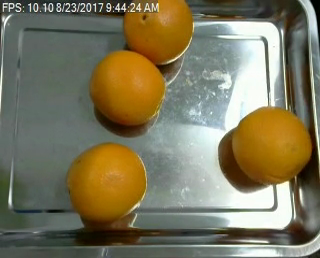Orange: (66, 140, 147, 221), (232, 106, 314, 185), (90, 49, 165, 124), (122, 1, 194, 66)
